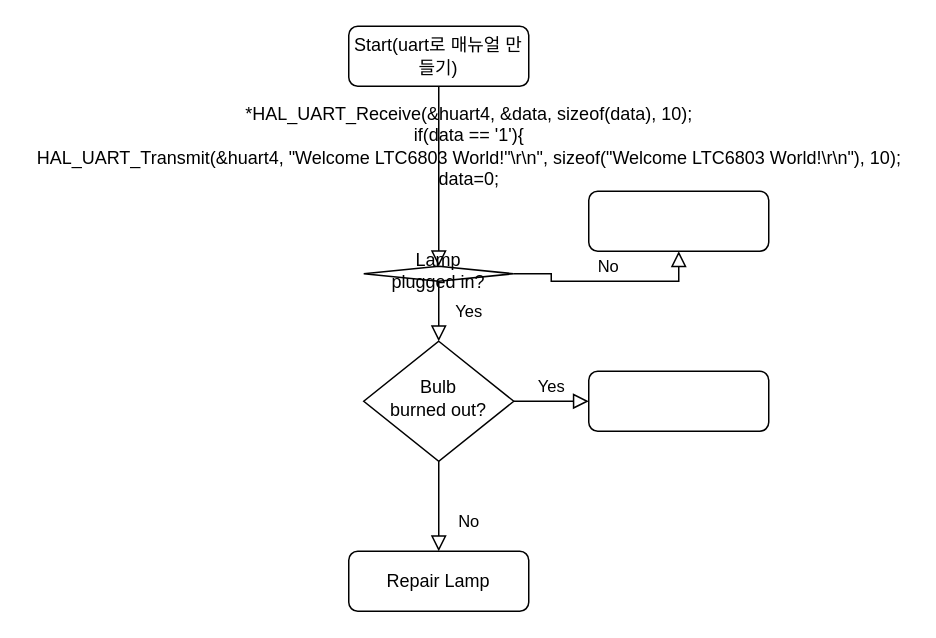
Image size: 936x638. Some labels were removed from this diagram. Here are the shapes that lost their labels. From the top down, the box of each, then its label:
(587, 190, 769, 251): Plug in lamp
(587, 370, 769, 431): Replace Bulb
